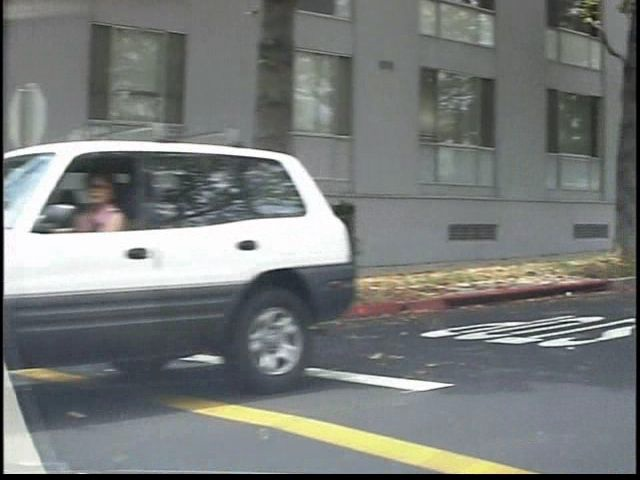person: (91, 162, 180, 410)
